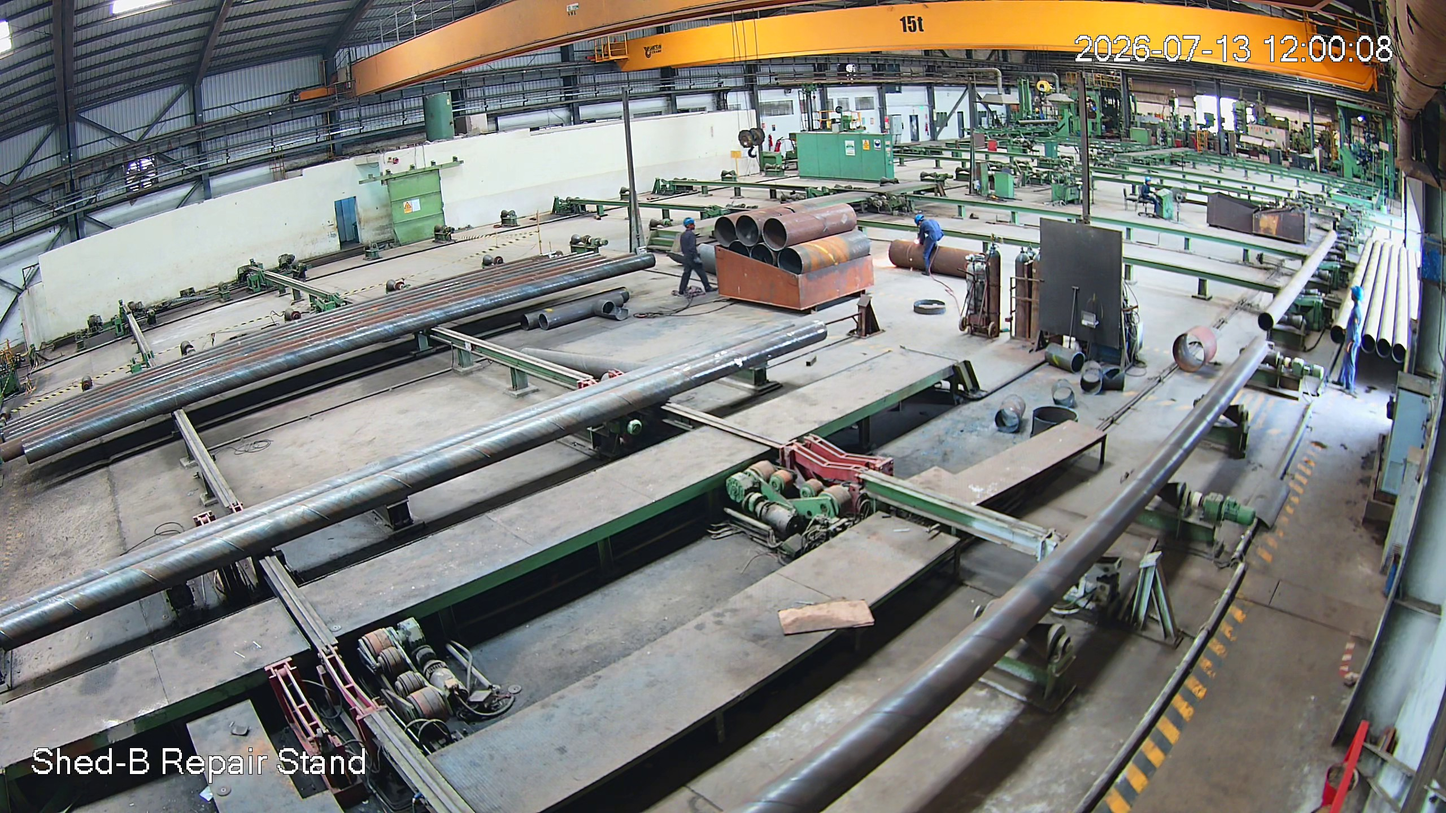Helmet: (915, 212, 926, 227)
Person: (914, 215, 945, 279)
